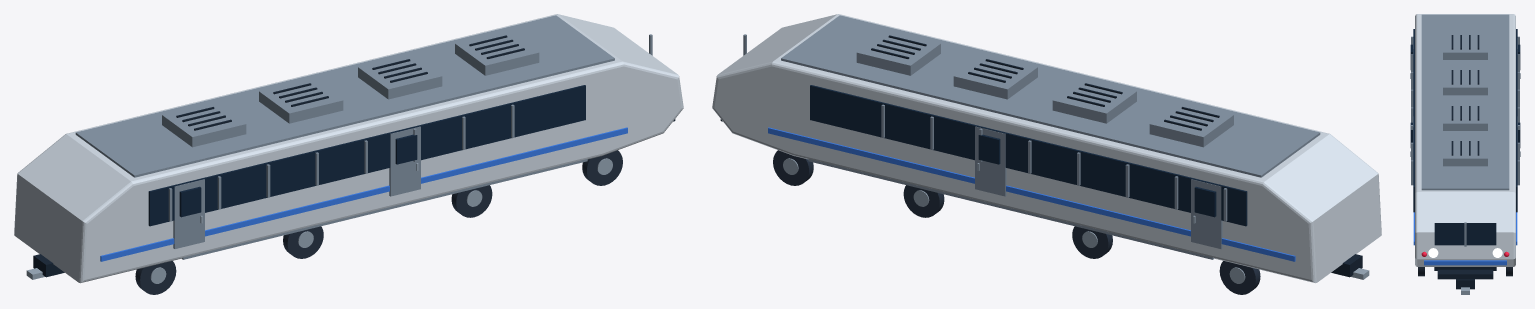
File: traintrack-passenger-train.glb
The picture shows the model from 3 angles, left to right: view 1: azimuth 30°, elevation 25°; view 2: azimuth 150°, elevation 25°; view 3: azimuth 270°, elevation 25°; orthographic projection. The views are drawn at different scales.
Visible parts, largest first — view 1: Aerodynamic silver passenger coach shell, Continuous roof cap, Panoramic window band 1, Blue lower side belt, Roof air conditioner -1.3, Roof air conditioner 1.05, Roof air conditioner -3.6, Roof air conditioner 3.35, Sliding passenger door 1 -4.78, Sliding passenger door 1 0.34, Lower side skirt 1, Steel wheel 5.15 1 (+5 smaller); view 2: Aerodynamic silver passenger coach shell, Continuous roof cap, Panoramic window band -1, Blue far lower side belt, Roof air conditioner -1.3, Roof air conditioner 1.05, Roof air conditioner -3.6, Roof air conditioner 3.35, Sliding passenger door -1 -4.78, Sliding passenger door -1 0.34, Lower side skirt -1, Steel wheel 5.15 -1 (+5 smaller); view 3: Continuous roof cap, Aerodynamic silver passenger coach shell, Wide driver windscreen, Roof air conditioner -1.3, Roof air conditioner 3.35, Roof air conditioner -3.6, Roof air conditioner 1.05, Front bumper, Front nose accent, Panoramic window band -1, Panoramic window band 1, Wheel bogie 5.15 (+1 smaller).
Boxes of the visible parts, x1,y1,x2,y2 form: Aerodynamic silver passenger coach shell: [14, 14, 683, 283]; Continuous roof cap: [75, 15, 614, 177]; Panoramic window band 1: [148, 85, 585, 226]; Blue lower side belt: [100, 127, 627, 261]; Roof air conditioner -1.3: [259, 78, 343, 123]; Roof air conditioner 1.05: [358, 54, 442, 99]; Roof air conditioner -3.6: [162, 102, 246, 147]; Roof air conditioner 3.35: [455, 30, 539, 75]; Sliding passenger door 1 -4.78: [173, 179, 204, 248]; Sliding passenger door 1 0.34: [389, 126, 420, 196]; Lower side skirt 1: [182, 159, 587, 259]; Steel wheel 5.15 1: [582, 150, 622, 185]; Aerodynamic silver passenger coach shell: [712, 14, 1381, 283]; Continuous roof cap: [781, 15, 1320, 177]; Panoramic window band -1: [810, 85, 1247, 226]; Blue far lower side belt: [768, 127, 1295, 261]; Roof air conditioner -1.3: [1052, 78, 1136, 123]; Roof air conditioner 1.05: [953, 54, 1037, 99]; Roof air conditioner -3.6: [1149, 102, 1233, 147]; Roof air conditioner 3.35: [856, 30, 940, 75]; Sliding passenger door -1 -4.78: [1191, 179, 1222, 248]; Sliding passenger door -1 0.34: [975, 126, 1006, 196]; Lower side skirt -1: [808, 159, 1213, 259]; Steel wheel 5.15 -1: [773, 150, 813, 185]; Continuous roof cap: [1421, 14, 1509, 190]; Aerodynamic silver passenger coach shell: [1415, 14, 1515, 266]; Wide driver windscreen: [1434, 223, 1496, 245]; Roof air conditioner -1.3: [1443, 68, 1487, 95]; Roof air conditioner 3.35: [1443, 139, 1487, 166]; Roof air conditioner -3.6: [1443, 33, 1487, 59]; Roof air conditioner 1.05: [1443, 104, 1487, 130]; Front bumper: [1437, 269, 1493, 279]; Front nose accent: [1424, 260, 1506, 265]; Panoramic window band -1: [1516, 29, 1517, 212]; Panoramic window band 1: [1413, 29, 1414, 212]; Wheel bogie 5.15: [1434, 267, 1496, 270].
Size of the model in its own units: 15.03 by 3.04 by 3.06.
